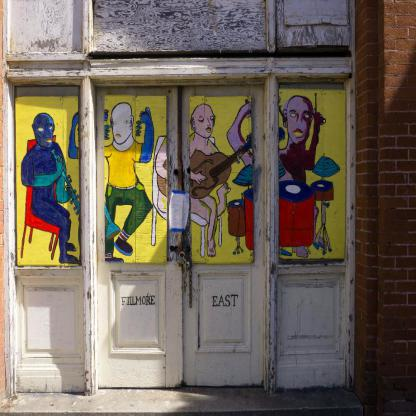door: (180, 81, 270, 388), (96, 85, 180, 388)
knob: (181, 250, 193, 272)
